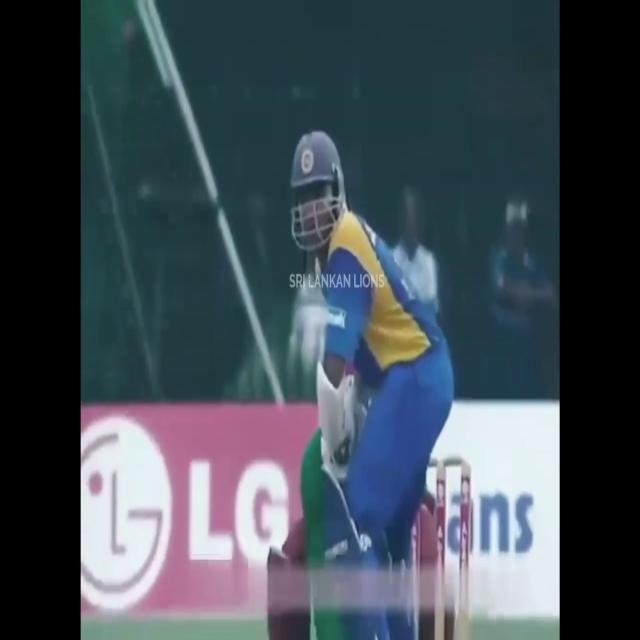Batsman: (280, 125, 453, 633)
